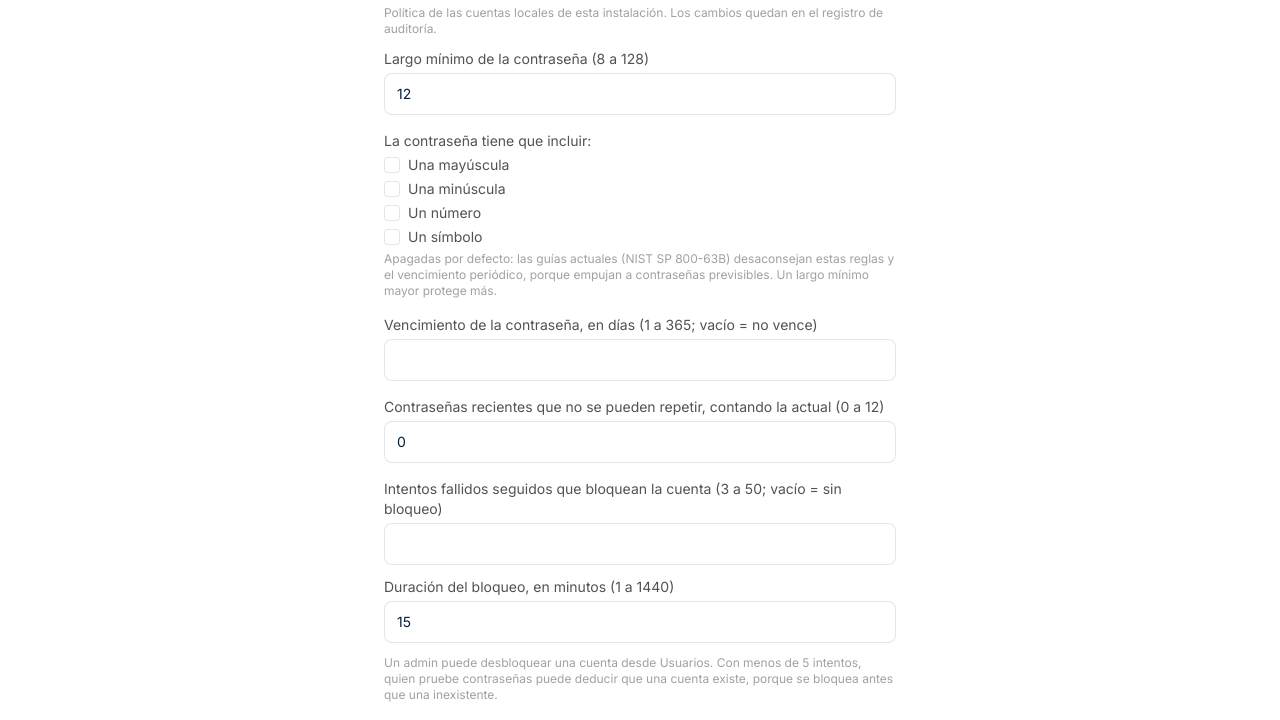
Scenario: AdminSettingsPanel › Sesión y contraseñas › valida el rango de {} con 366
(page scrolled)
Step 1. Type "366" into the number field labelled "Vencimiento de la contraseña" → (640, 360), box [384,339,896,381]
(page scrolled)
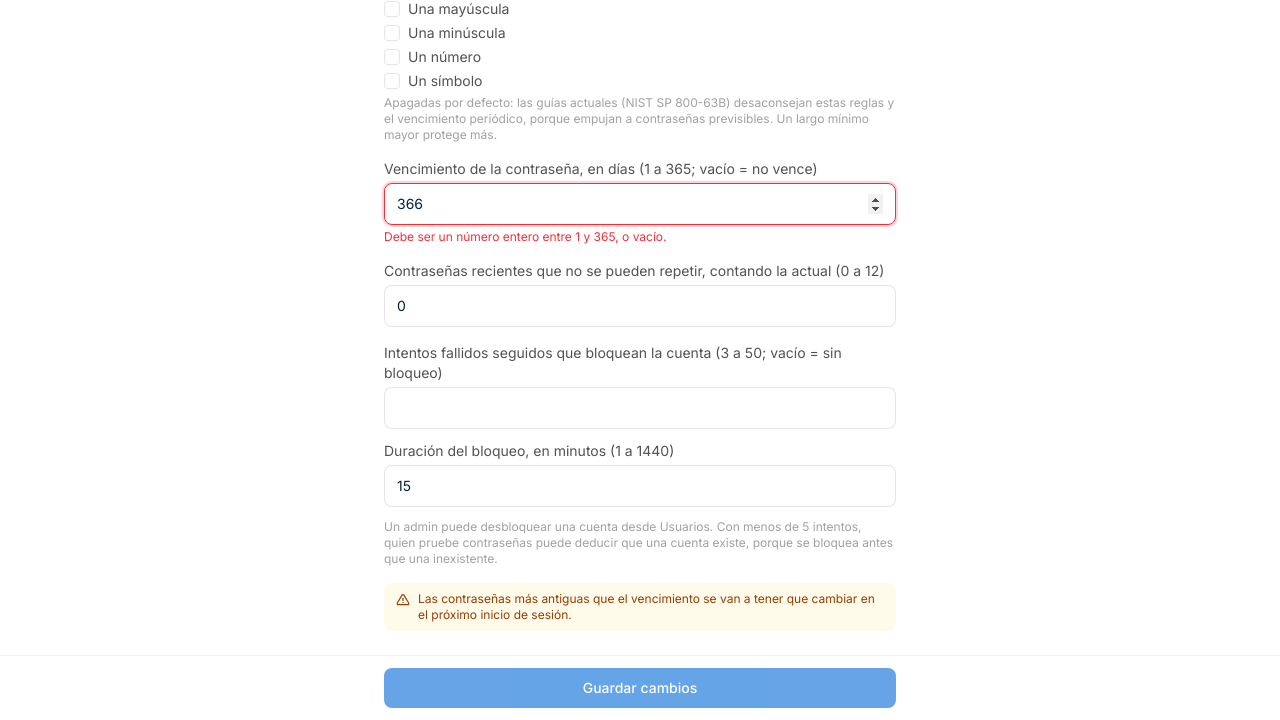
Expected: the button "Guardar cambios" is disabled, [384,668,896,708]
Expected: the text "Debe ser un número entero entre 1 y 365, o vacío." is shown, [384,229,666,244]
